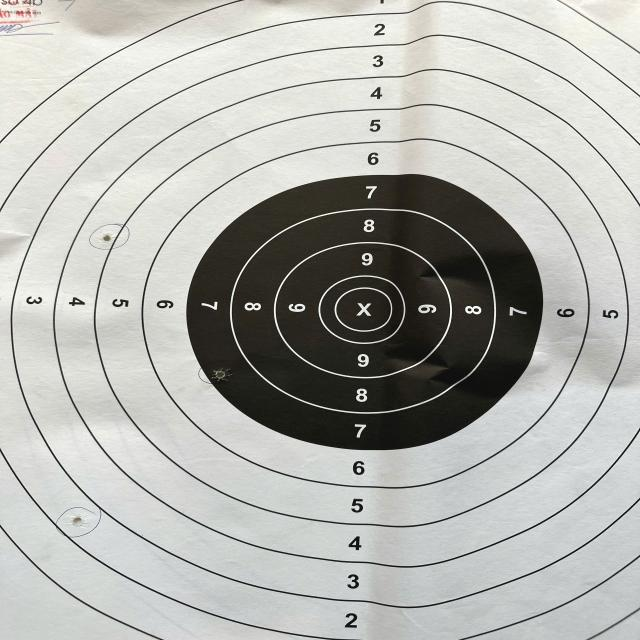bullet: (212, 368, 231, 382), (72, 515, 85, 526), (102, 234, 111, 242)
target: (0, 0, 640, 640)
